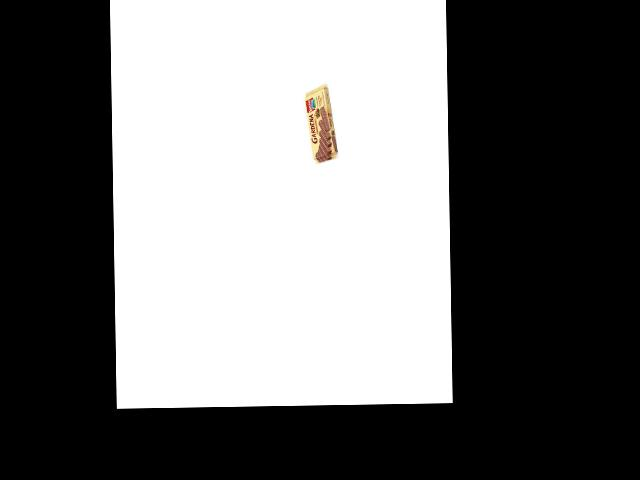chocolate: (303, 81, 335, 167)
